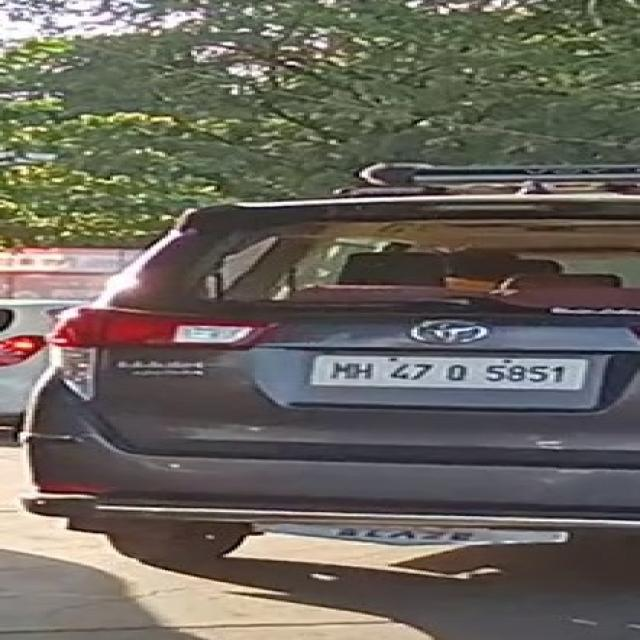Plate: (305, 354, 583, 391)
